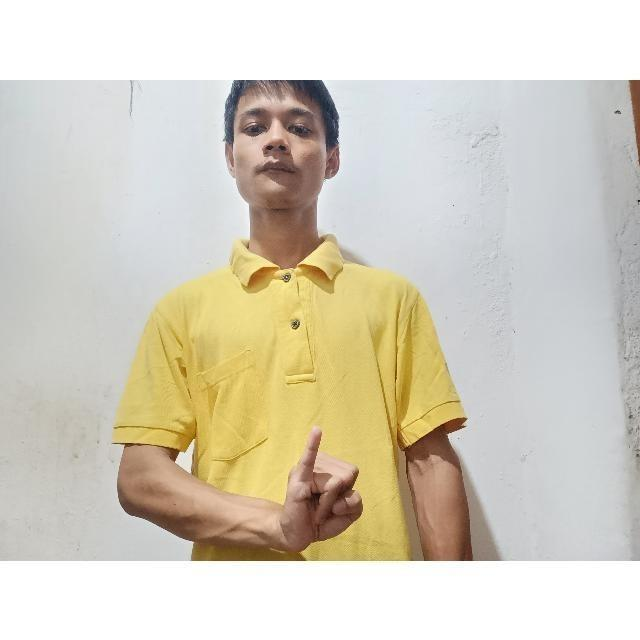I: (268, 414, 366, 555)
